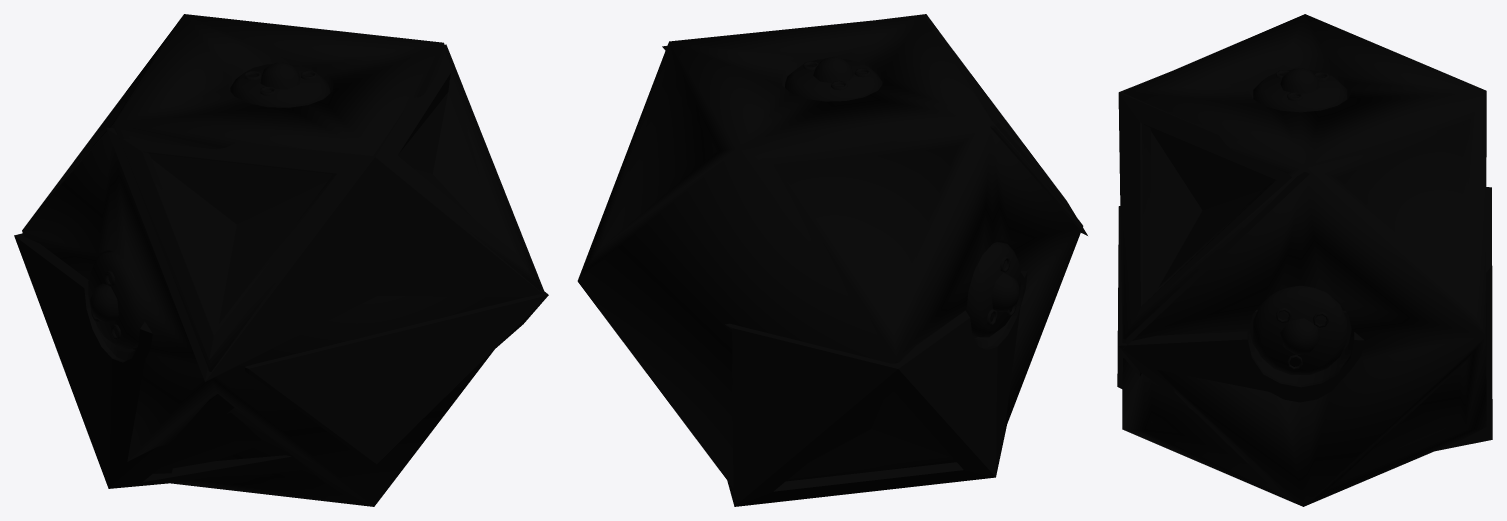
3 renders of one model, left to right at view 1: azimuth 30°, elevation 25°; view 2: azimuth 150°, elevation 25°; view 3: azimuth 270°, elevation 25°, orthographic. The views are drawn at different scales.
Parts seen in each view (by area): view 1: _0x775f1d4cd6377875; view 2: _0x775f1d4cd6377875; view 3: _0x775f1d4cd6377875.
Boxes of the visible parts, x1=… form: _0x775f1d4cd6377875: x1=14, y1=14, x2=548, y2=506; _0x775f1d4cd6377875: x1=577, y1=14, x2=1087, y2=506; _0x775f1d4cd6377875: x1=1117, y1=14, x2=1492, y2=506.
Size of the model in its own units: 23.1 by 23.78 by 20.71.
